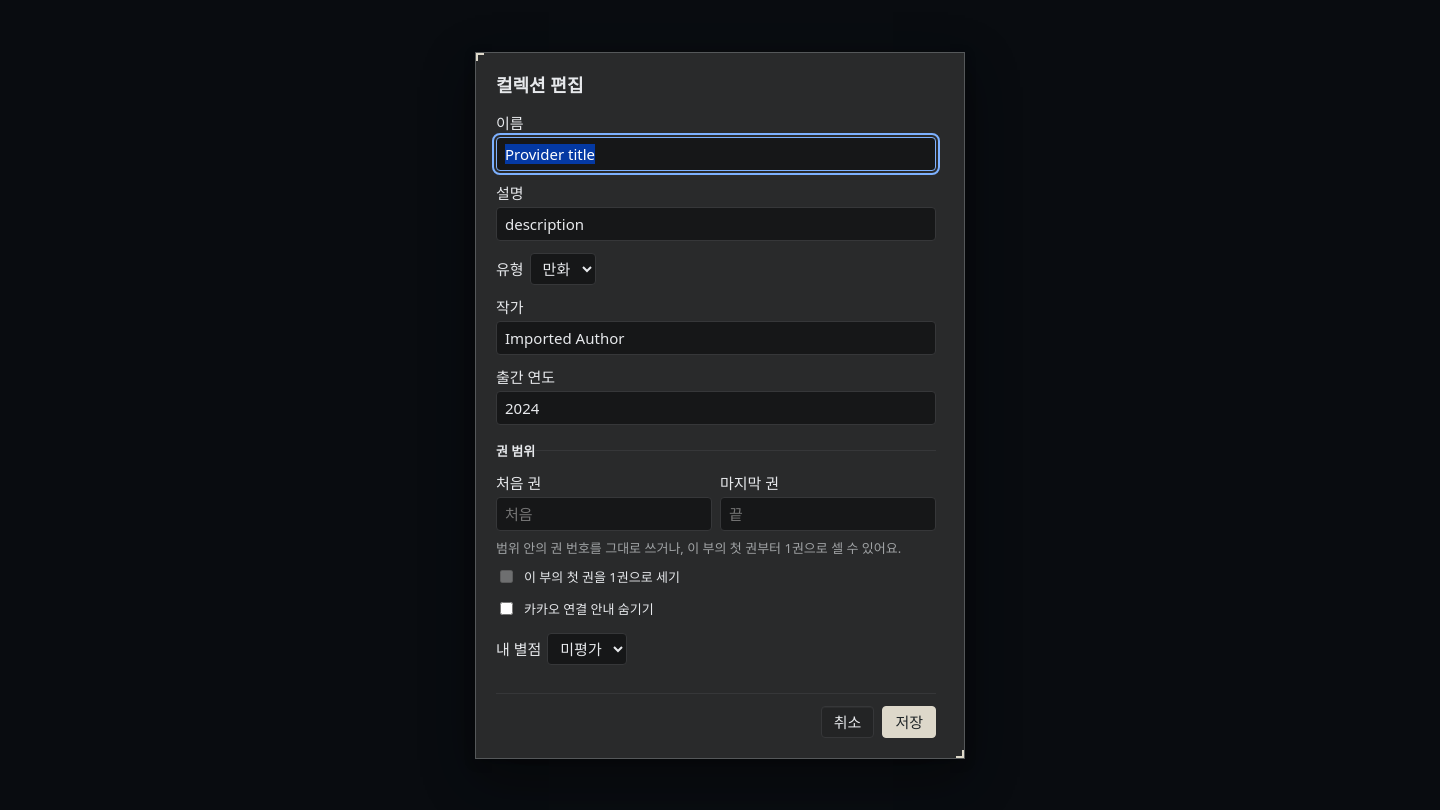
Scenario: rejects a reversed manga volume range before saving
The width and height of the screenshot is (1440, 810).
Type "12" into the number field labelled "처음 권" at (604, 514), box [496, 496, 712, 530]
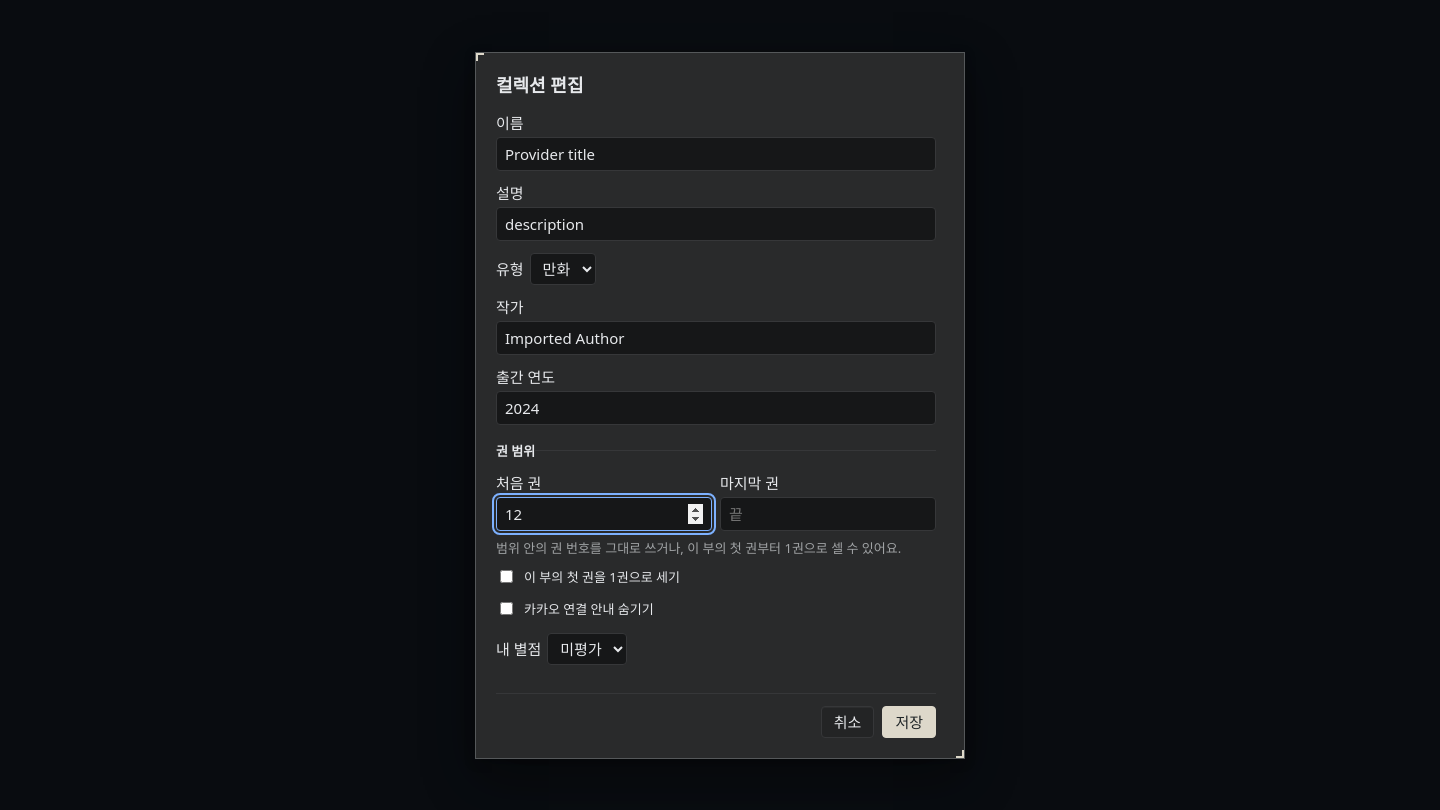
Type "11" into the number field labelled "마지막 권" at (828, 514), box [720, 496, 936, 530]
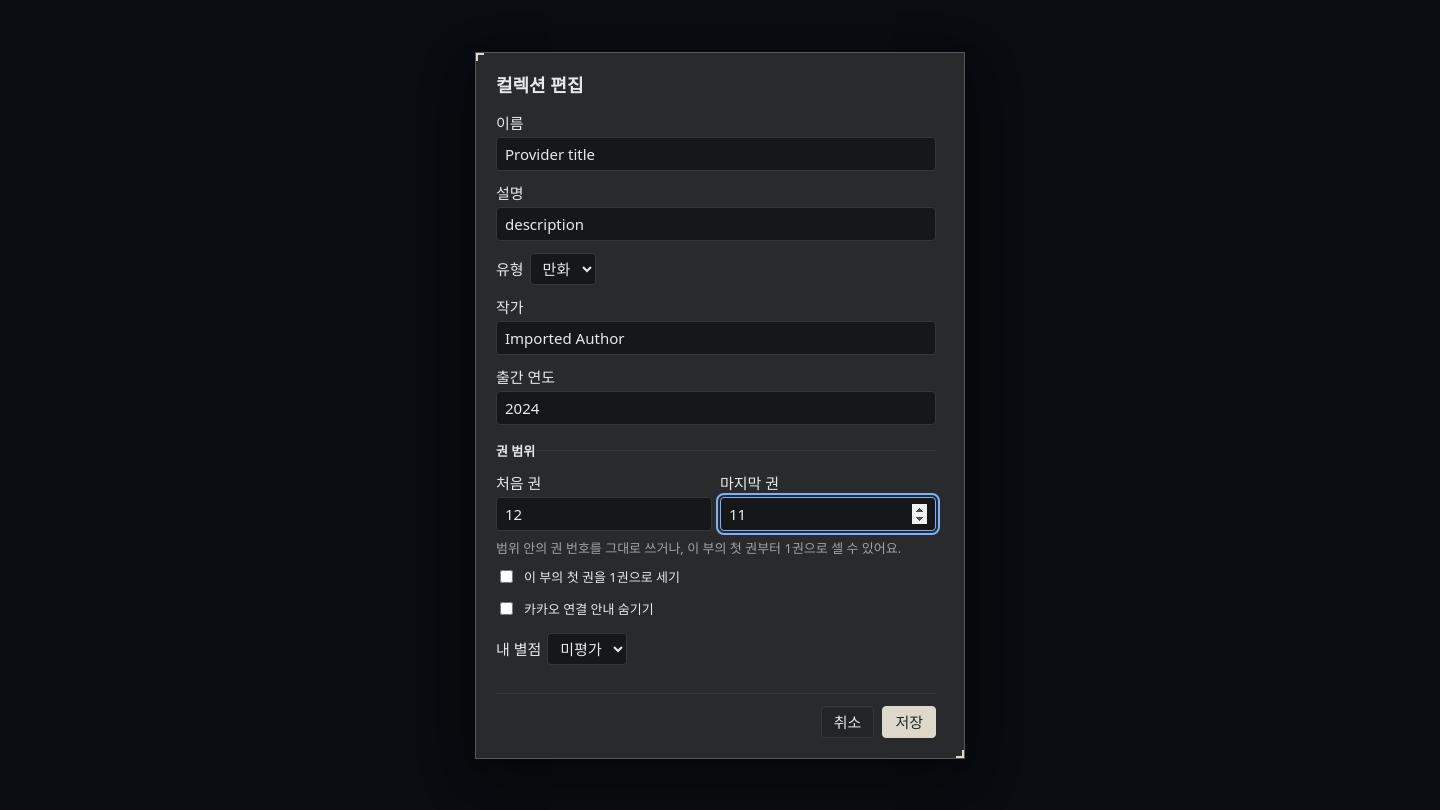
Click the button "저장" at (909, 722), box [882, 706, 936, 738]
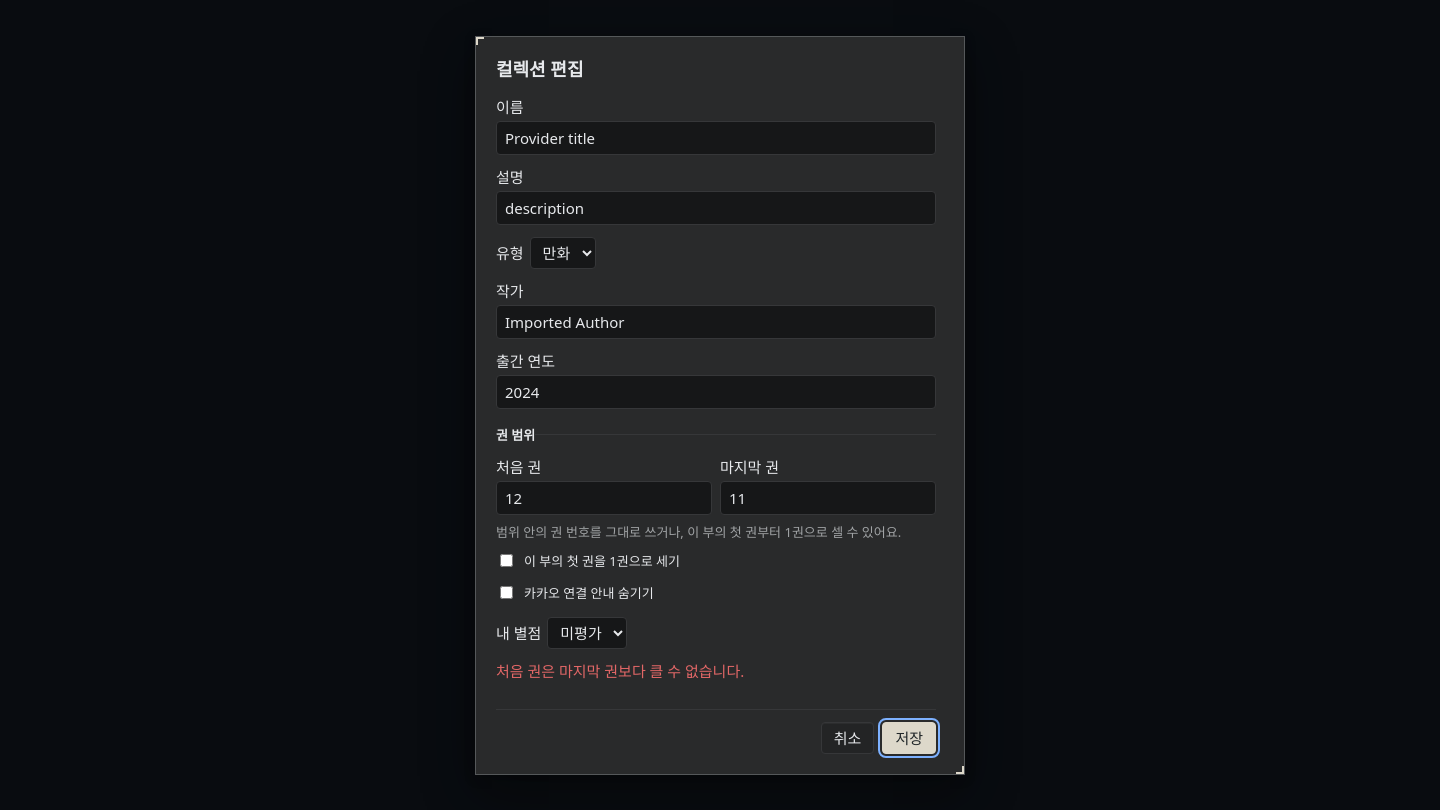
Now the message reads "처음 권은 마지막 권보다 클 수 없습니다.", box [496, 660, 744, 680]
